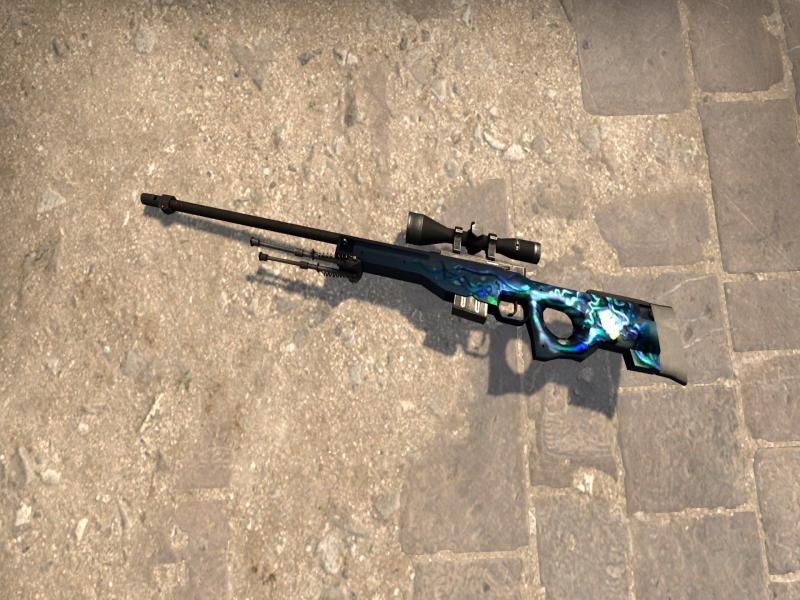AWP: (140, 192, 688, 384)
